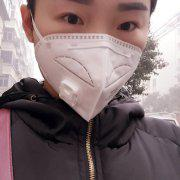OK: (35, 2, 152, 114)
